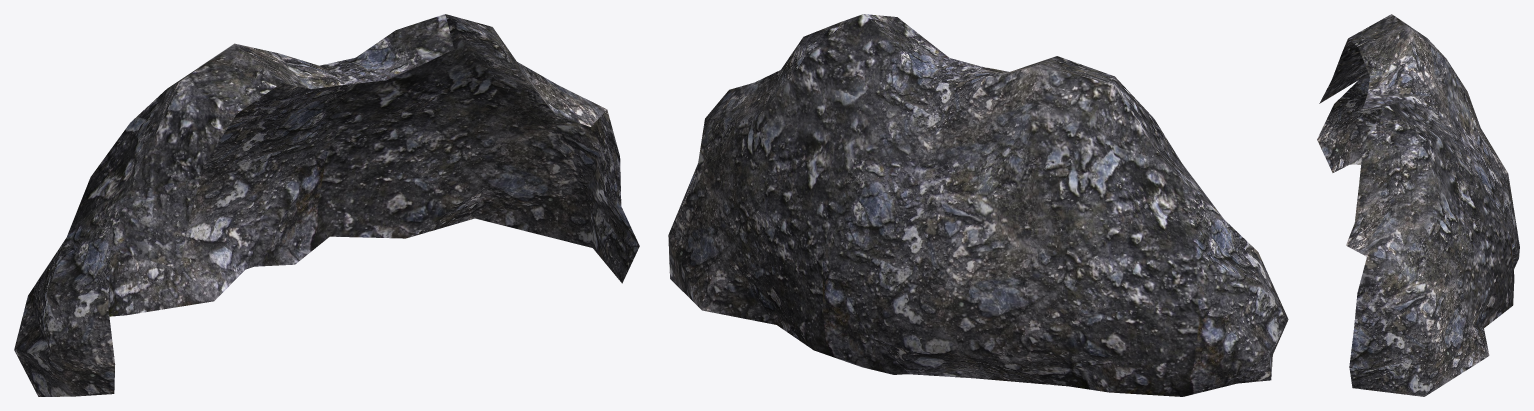
Rendered from rock-04.FBX.
The picture shows the model from 3 angles, left to right: view 1: azimuth 30°, elevation 25°; view 2: azimuth 150°, elevation 25°; view 3: azimuth 270°, elevation 25°; orthographic projection. The views are drawn at different scales.
Visible parts, largest first — view 1: RockBB; view 2: RockBB; view 3: RockBB.
Boxes of the visible parts, bbox=[...] form: RockBB: bbox=[14, 14, 639, 396]; RockBB: bbox=[668, 14, 1288, 396]; RockBB: bbox=[1317, 14, 1519, 396].
Bounding box in the file's own units: 370 × 179 × 142.
Materials: 1 (1 with a texture image).
